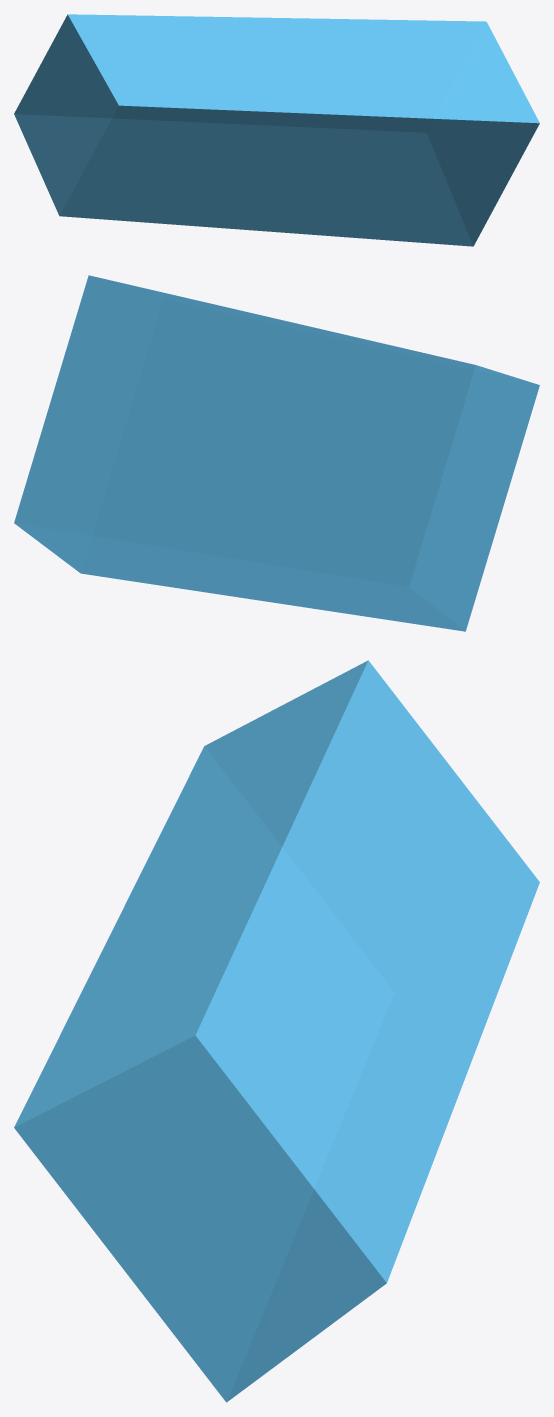
The model's file is Event_421127236_HErechit_13.fbx.
3 renders of one model, top to bottom at view 1: azimuth 30°, elevation 25°; view 2: azimuth 150°, elevation 25°; view 3: azimuth 270°, elevation 25°, orthographic. The views are drawn at different scales.
Visible parts, largest first — view 1: Model; view 2: Model; view 3: Model.
Part boxes in pixels (<box>): Model: <box>14,14,539,246</box>; Model: <box>14,275,539,631</box>; Model: <box>14,660,539,1402</box>.
Bounding box in the file's own units: 1.18 × 0.8932 × 0.9247.
